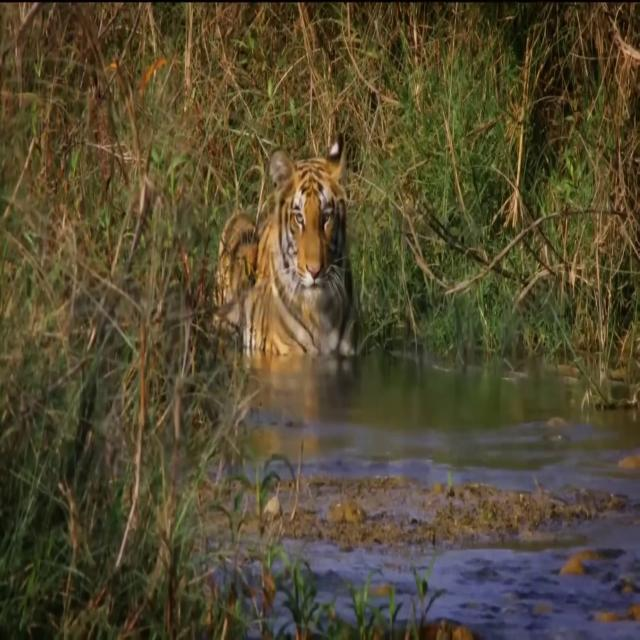tiger: (214, 131, 364, 354)
